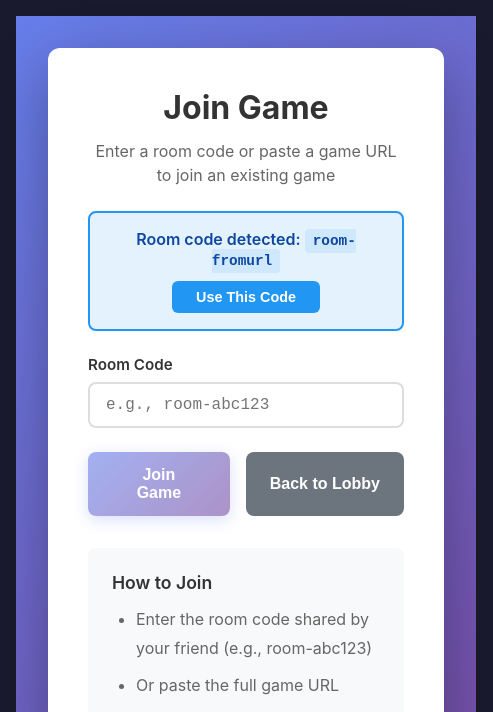
Test: JoinGame › hides URL detected banner after auto-fill
Click the button "Use This Code" at [246, 297], box 172,281 -> 320,313
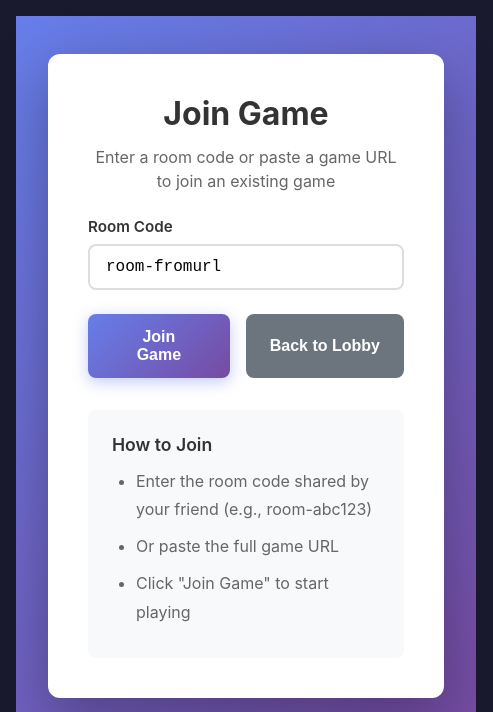
Result: the text "Room code detected" is gone
